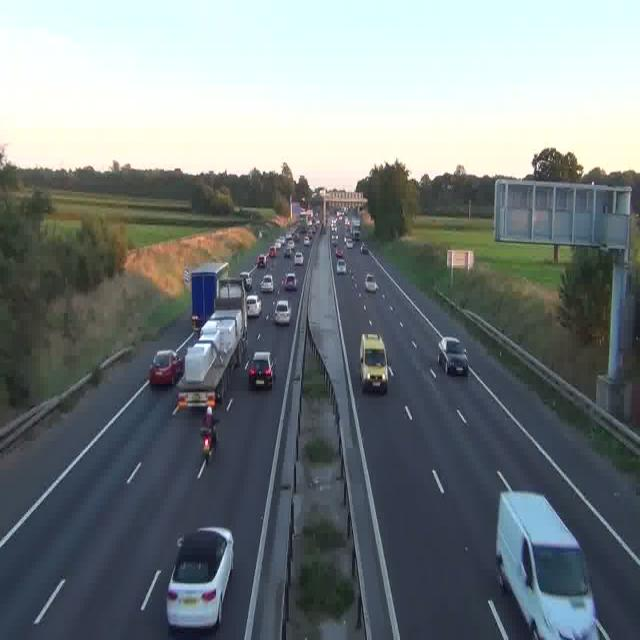car: (496, 490, 598, 639), (167, 526, 234, 628), (359, 334, 389, 393), (149, 350, 183, 387), (438, 336, 468, 375), (249, 352, 275, 389), (274, 300, 291, 324), (244, 295, 260, 318), (260, 274, 274, 293), (282, 271, 296, 290), (242, 272, 254, 292), (366, 274, 378, 292), (336, 258, 346, 273), (294, 252, 304, 265), (256, 254, 266, 267), (283, 246, 293, 259), (335, 245, 343, 258), (303, 238, 311, 249), (361, 242, 368, 252)
truck: (175, 314, 247, 459), (187, 262, 230, 327), (352, 222, 361, 243)
